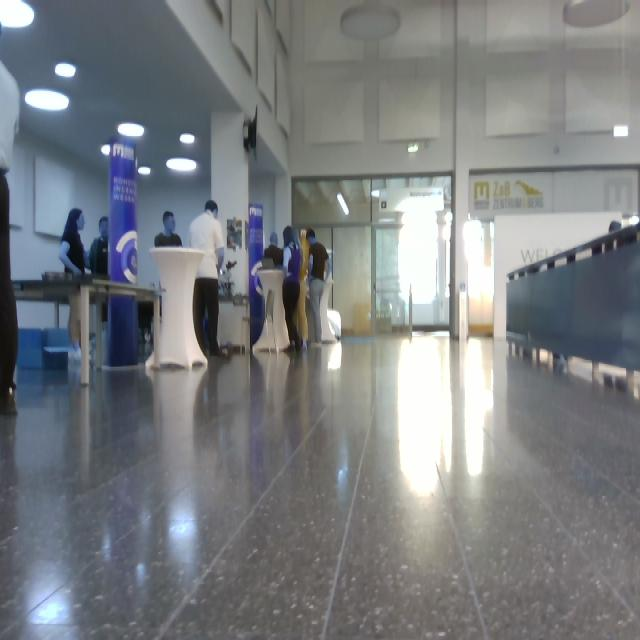door: (332, 225, 373, 336)
light bulb: (340, 4, 401, 42), (563, 1, 630, 28), (25, 89, 70, 113), (1, 1, 35, 29), (166, 157, 197, 173), (118, 123, 145, 139), (55, 63, 77, 79), (337, 193, 350, 216), (613, 125, 629, 138), (180, 133, 195, 144), (442, 225, 451, 241), (138, 165, 151, 176), (408, 142, 419, 153), (101, 144, 111, 156)
person: (188, 200, 228, 358), (59, 208, 93, 360), (306, 229, 330, 346), (282, 226, 304, 352), (264, 232, 284, 269)
pillar: (104, 137, 140, 368)
staircase: (505, 218, 640, 397)
tiled floor: (2, 331, 639, 639)
